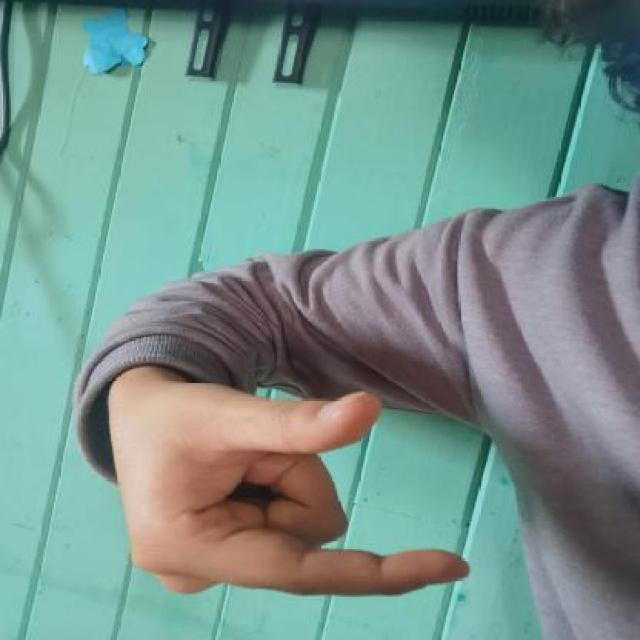G: (88, 348, 500, 628)
